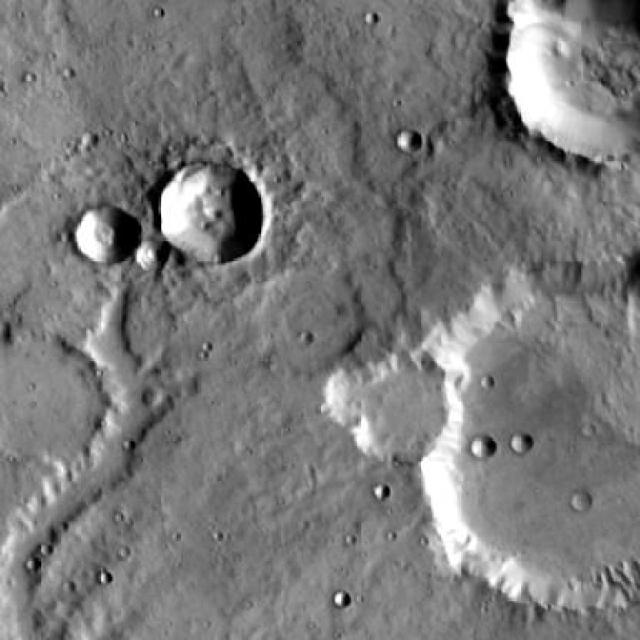crater: (398, 262, 640, 613), (503, 0, 640, 165), (332, 352, 457, 468), (0, 332, 109, 462), (156, 162, 266, 266), (255, 272, 363, 373), (506, 0, 586, 51), (76, 207, 138, 265), (136, 243, 167, 271), (396, 133, 422, 156), (509, 436, 533, 459), (469, 440, 493, 462), (570, 494, 592, 514)
